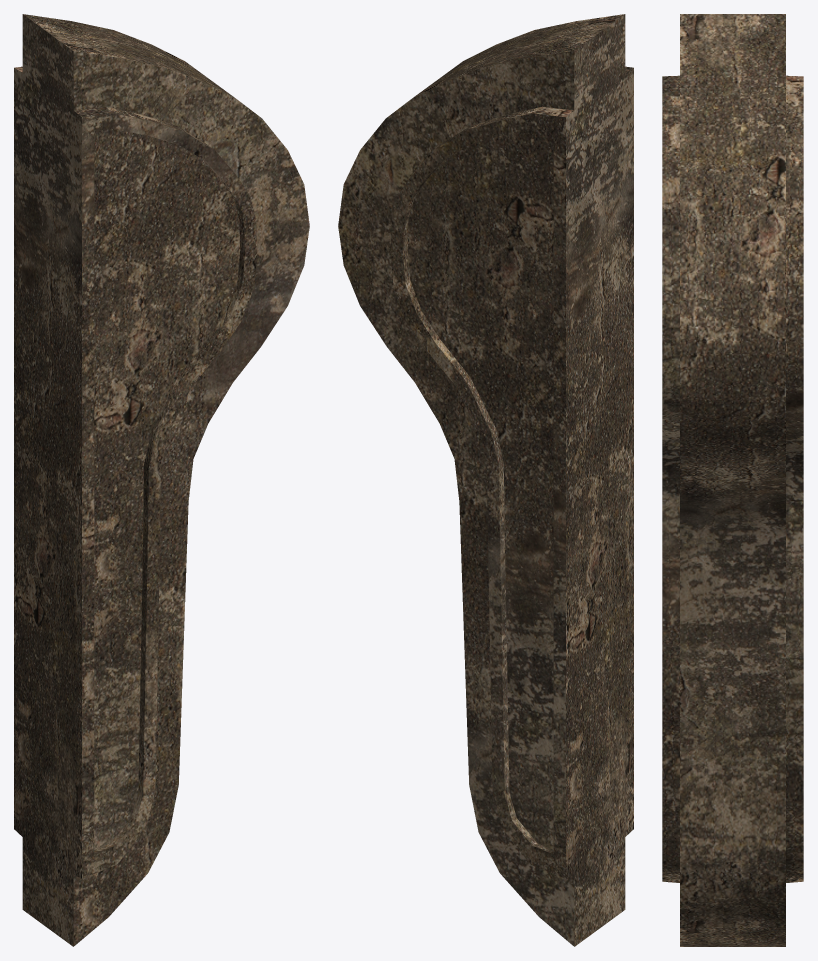
File: materials_5_decoration_9.fbx
3 renders of one model, left to right at view 1: azimuth 30°, elevation 25°; view 2: azimuth 150°, elevation 25°; view 3: azimuth 270°, elevation 25°, orthographic. The views are drawn at different scales.
Visible parts, largest first — view 1: materials_5_decoration_9; view 2: materials_5_decoration_9; view 3: materials_5_decoration_9.
Part boxes in pixels (left/top/right/bottom): materials_5_decoration_9: left=14, top=14, right=309, bottom=946; materials_5_decoration_9: left=338, top=14, right=633, bottom=946; materials_5_decoration_9: left=662, top=14, right=803, bottom=946.
Bounding box in the file's own units: 15.35 × 55.58 × 7.63.
